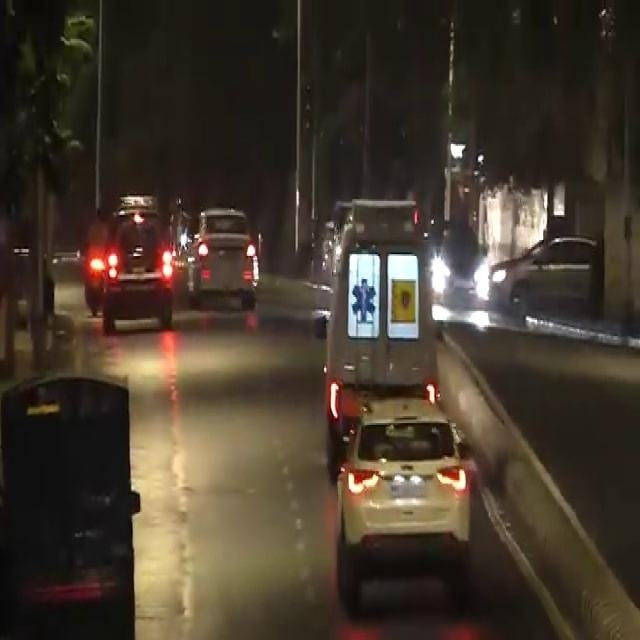ambulance: (326, 184, 442, 381)
